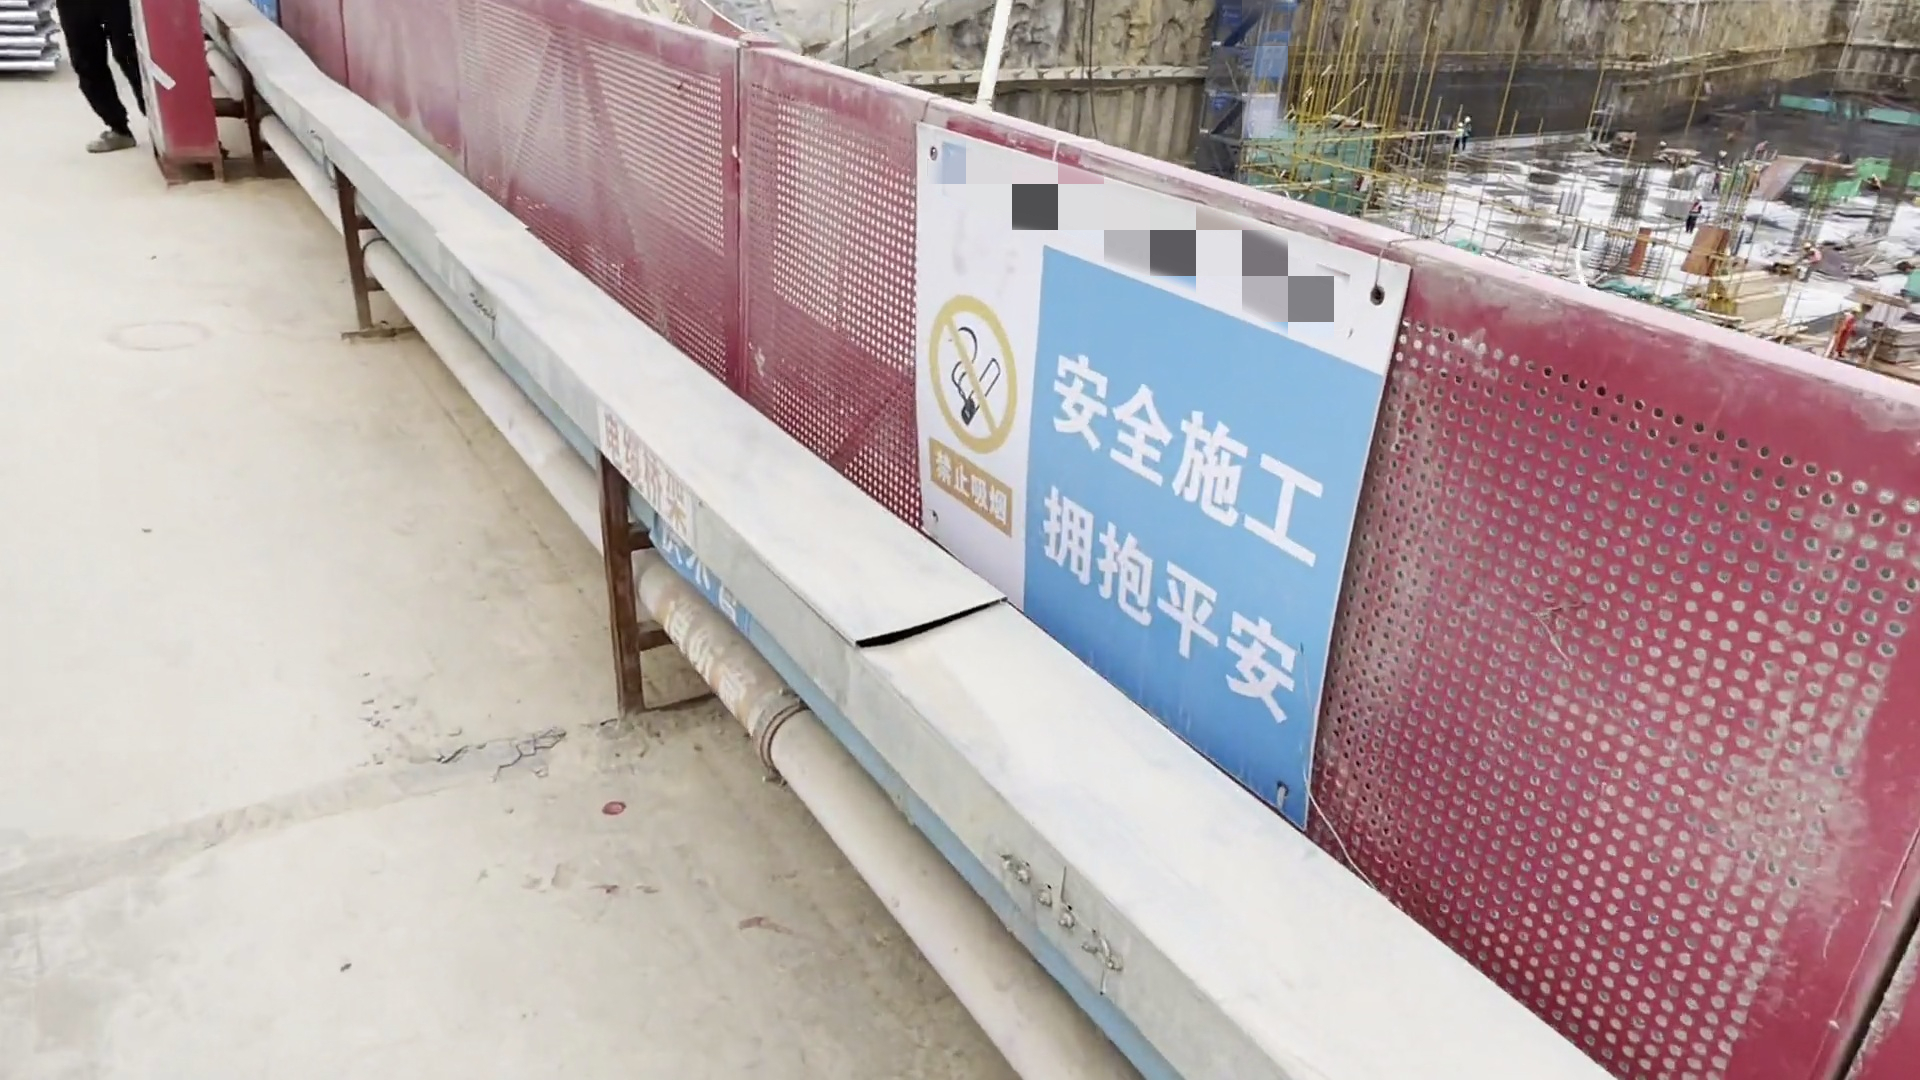slogan: (899, 108, 1369, 851)
